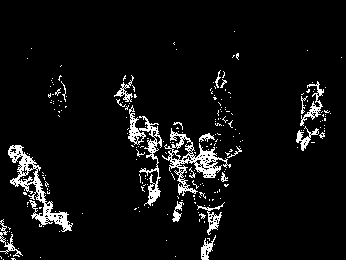person: (8, 143, 71, 231), (189, 133, 230, 258), (166, 120, 195, 222), (131, 116, 162, 209), (299, 79, 329, 151), (211, 71, 237, 132), (115, 72, 137, 135), (47, 71, 68, 119)
